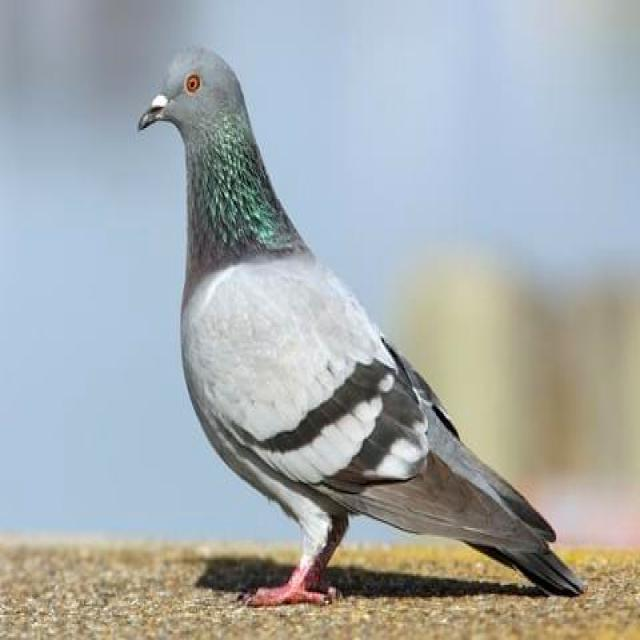pigeon: (139, 50, 583, 604)
